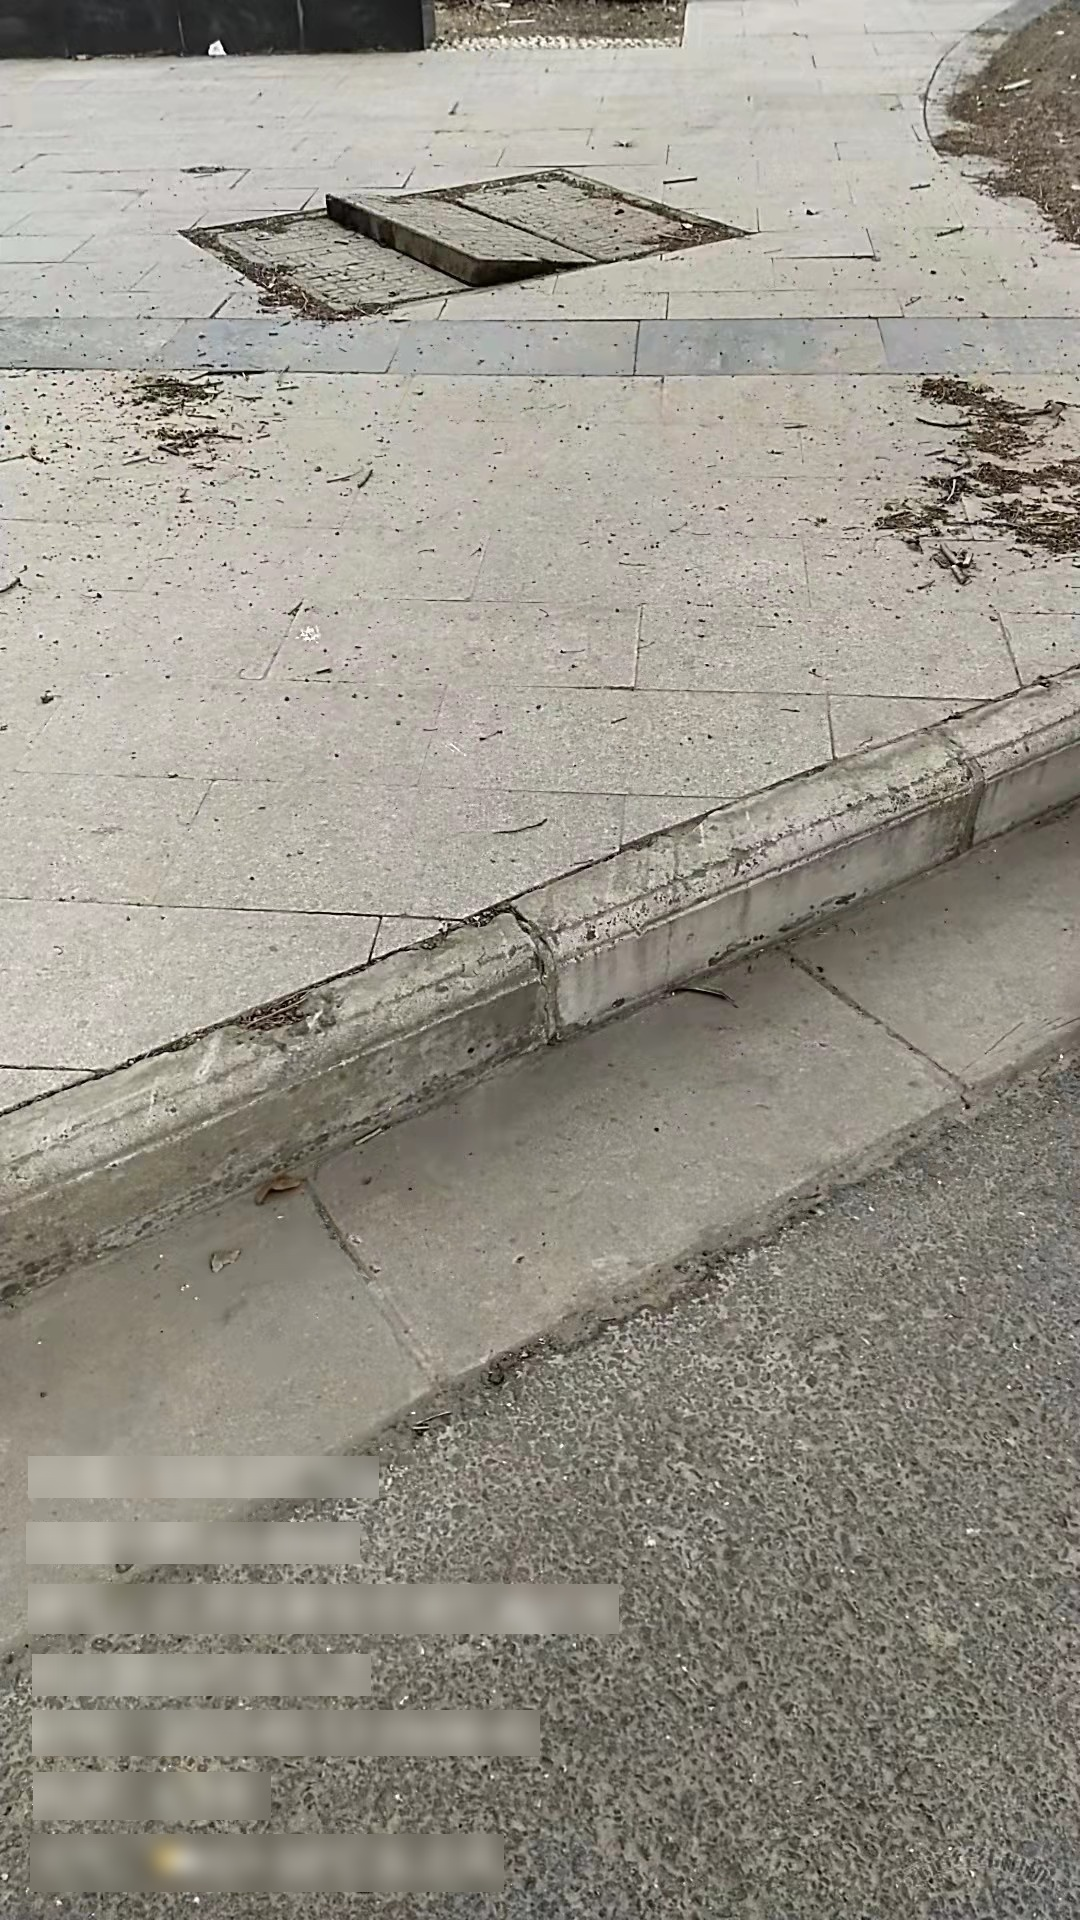uncovered: (185, 171, 753, 316)
